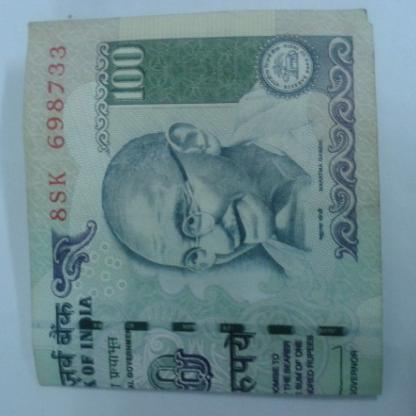Old100Front: (22, 8, 385, 399)
